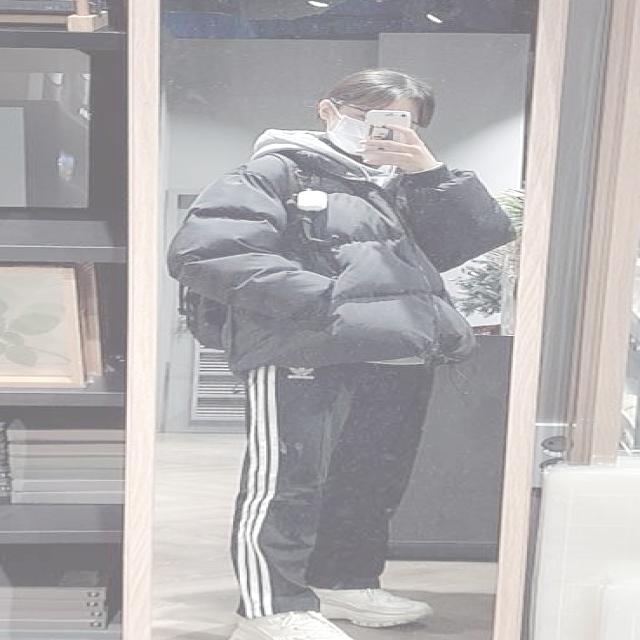padding: (165, 141, 517, 371)
trainingpants: (235, 349, 419, 617)
